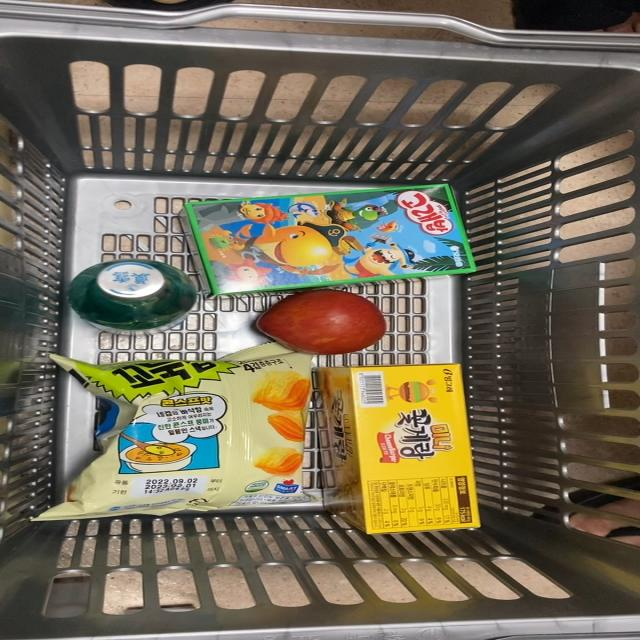ggobukchip: (36, 349, 335, 520)
goraebob: (177, 177, 498, 287)
jinro: (68, 256, 202, 330)
minicrab: (321, 360, 500, 538)
plum: (250, 289, 392, 356)
